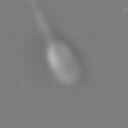normal: (25, 1, 54, 40)
